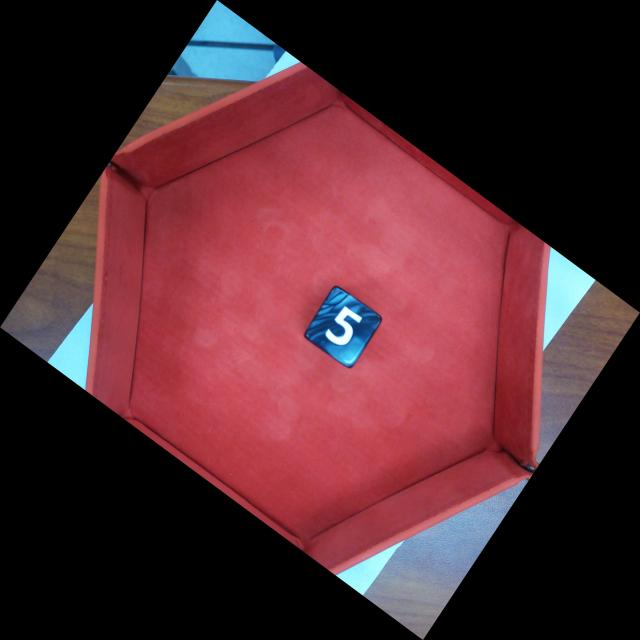dice: (299, 282, 387, 372)
